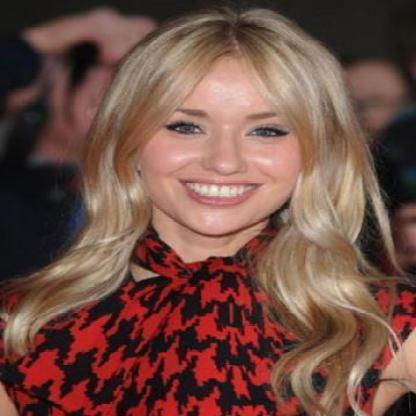long-hair: (55, 231, 378, 267)
